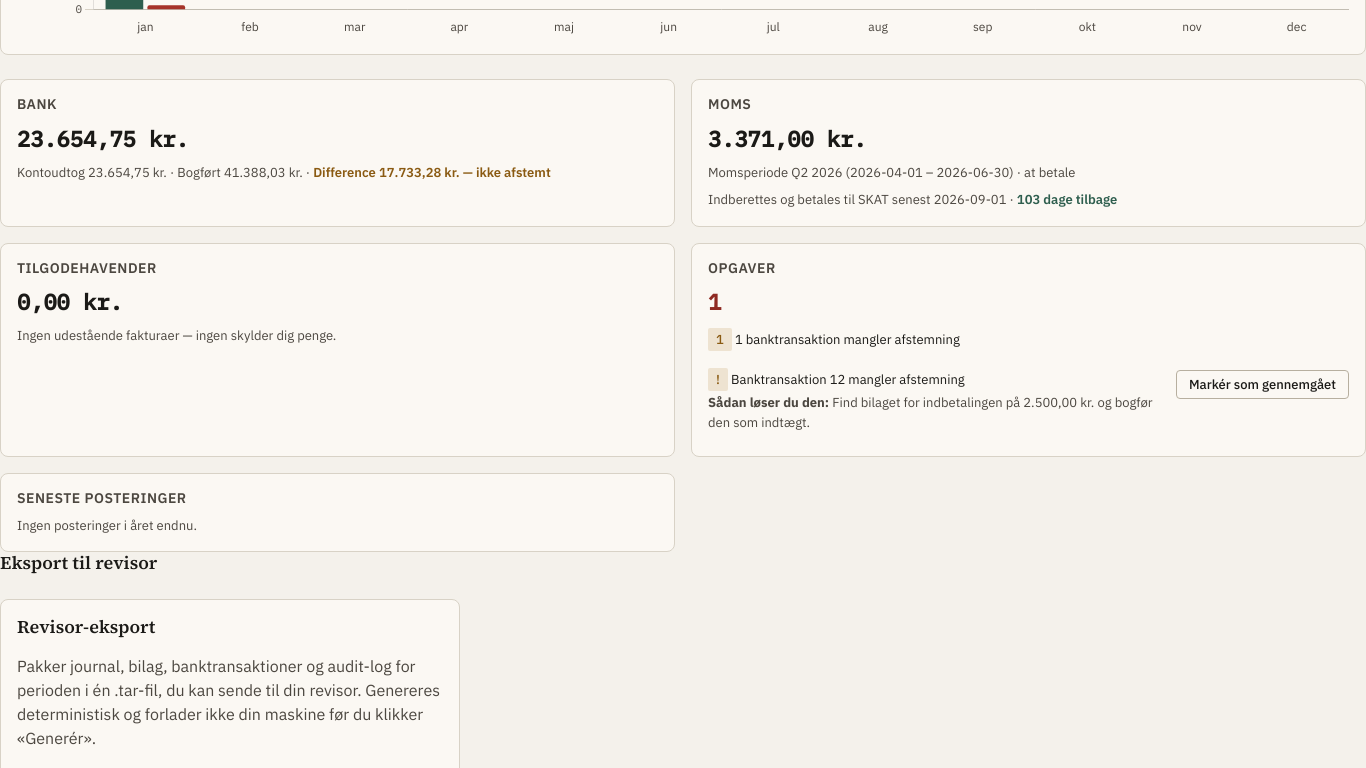
Test: DashboardView — resolve exception (#213) › the confirm modal makes clear that nothing is booked (#253)
(page scrolled)
Click the button "Markér som gennemgået" at (1262, 385), box [1176,370,1349,399]
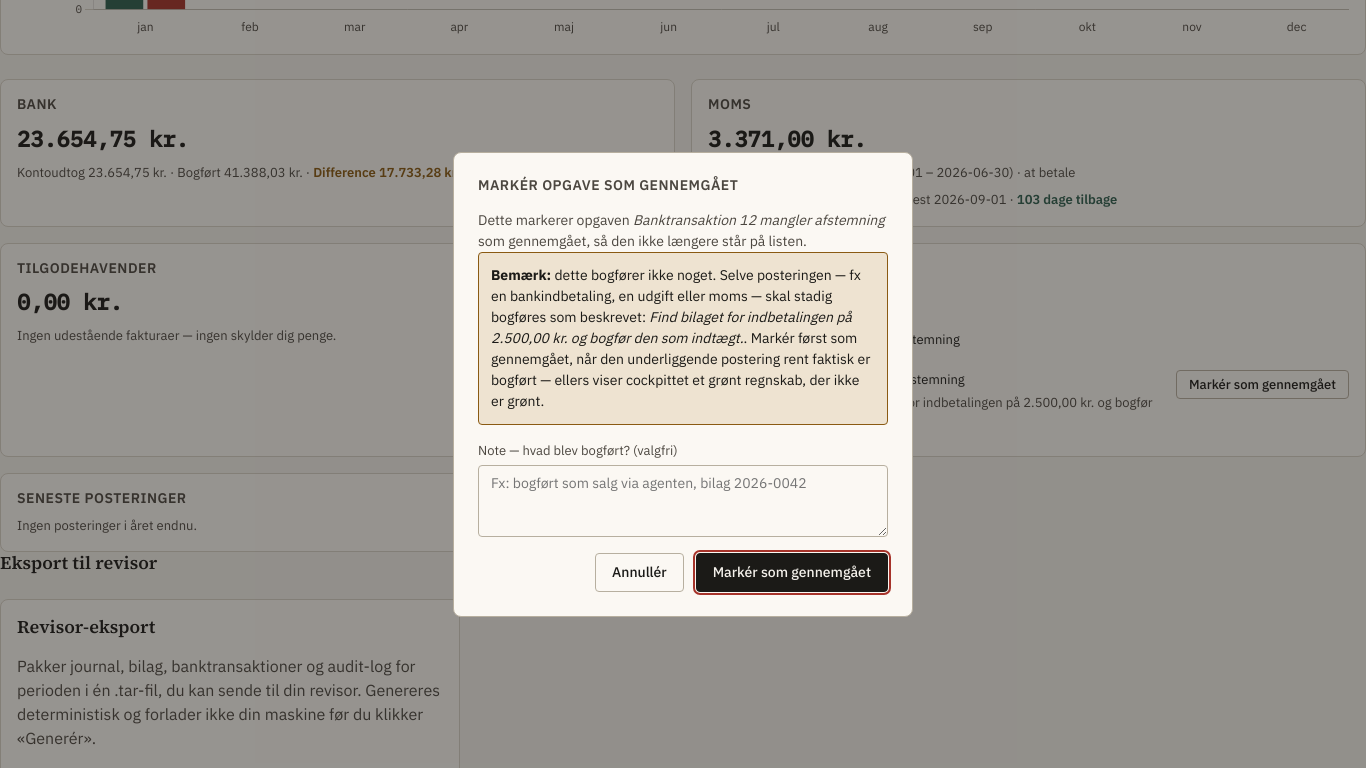
Check: the dialog "Markér opgave som gennemgået" is shown, box [453,152,913,616]
Check: the text "skal stadig bogføres" is shown, box [491,266,861,326]
Check: the text "Note — hvad blev bogført? (valgfri)" is shown, box [478,441,888,536]
